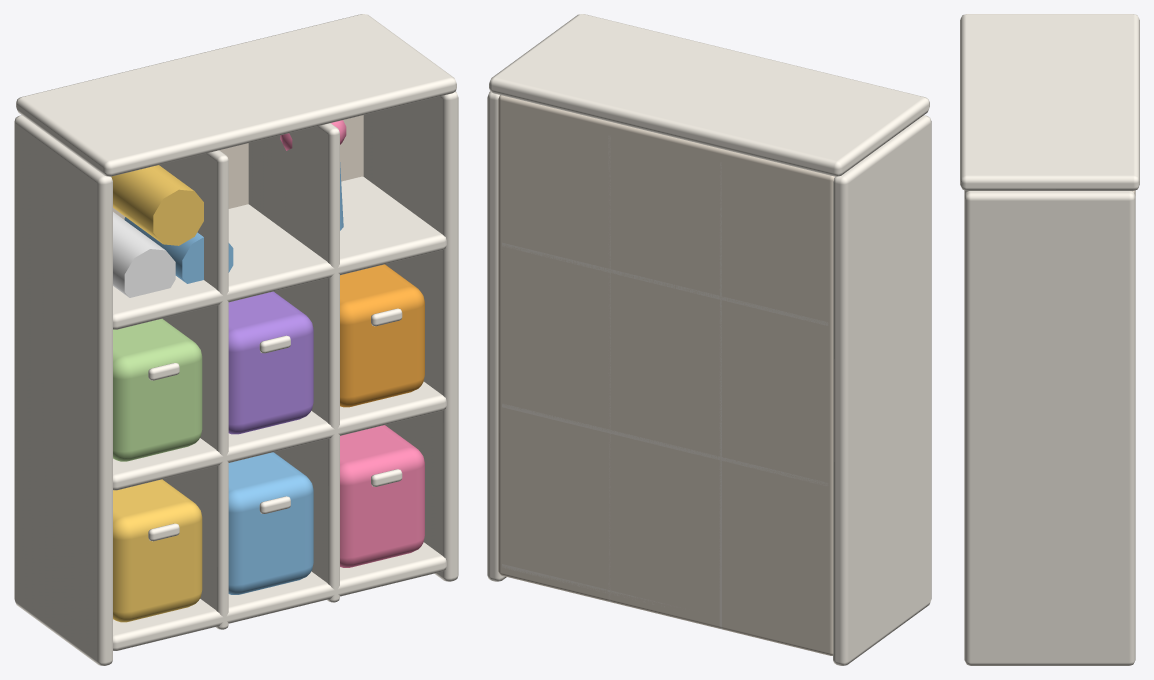
File: bathshelf-baskets.glb
3 renders of one model, left to right at view 1: azimuth 30°, elevation 25°; view 2: azimuth 150°, elevation 25°; view 3: azimuth 270°, elevation 25°, orthographic. The views are drawn at different scales.
Bounding box in the file's own units: 0.94 × 1.26 × 0.42.
